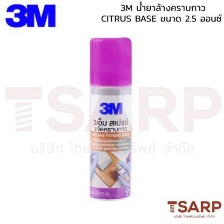aerosol_cans: (84, 33, 134, 203)
